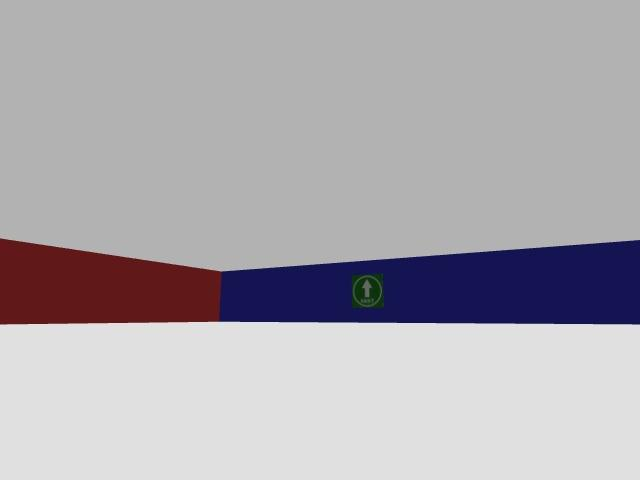fast: (352, 275, 382, 307)
